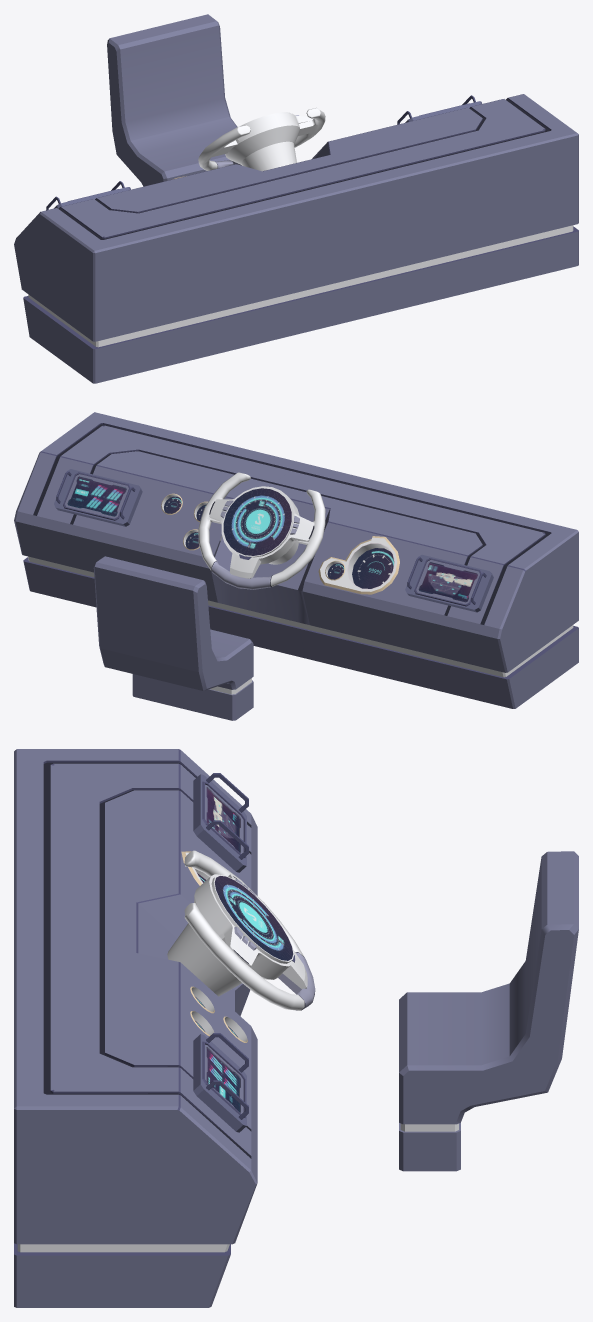
File: TableMain.fbx
3 views of the same model, one above another, from view 1: azimuth 30°, elevation 25°; view 2: azimuth 150°, elevation 25°; view 3: azimuth 270°, elevation 25° (orthographic). The views are drawn at different scales.
Visible parts, largest first — view 1: TableMain; view 2: TableMain; view 3: TableMain.
Boxes of the visible parts, left/top/right/bottom form: TableMain: left=14, top=14, right=578, bottom=383; TableMain: left=14, top=412, right=578, bottom=720; TableMain: left=14, top=749, right=578, bottom=1307.
Bounding box in the file's own units: 2.14 × 0.6894 × 1.42.
